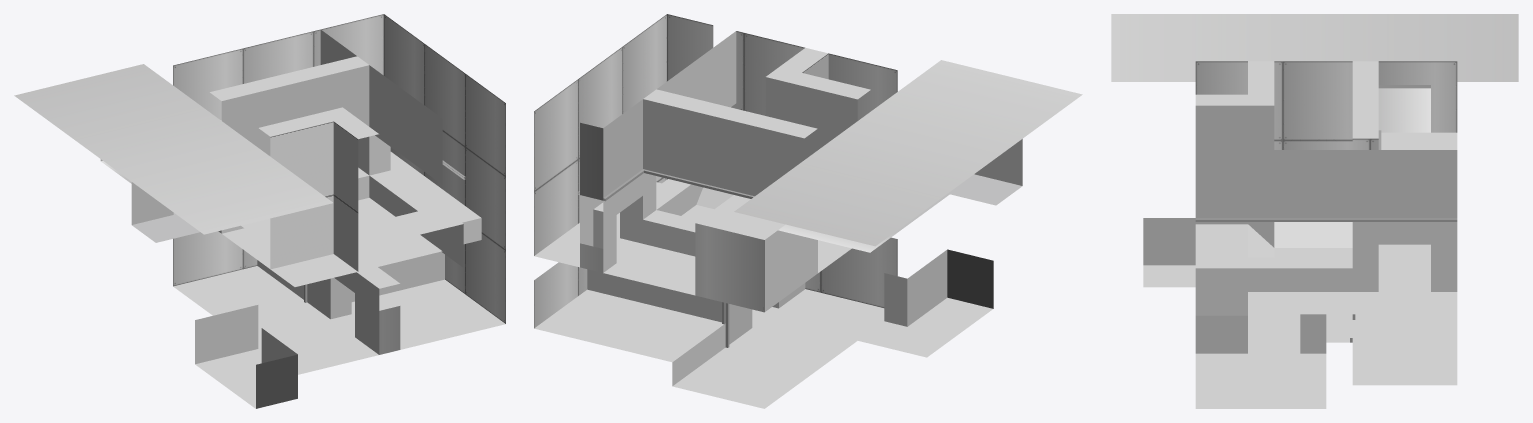
The model's file is Area5.gltf.
The picture shows the model from 3 angles, left to right: view 1: azimuth 30°, elevation 25°; view 2: azimuth 150°, elevation 25°; view 3: azimuth 270°, elevation 25°; orthographic projection. The views are drawn at different scales.
Visible parts, largest first — view 1: Grid.001; view 2: Grid.001; view 3: Grid.001.
Part boxes in pixels (bbox=[...]): Grid.001: bbox=[14, 14, 505, 408]; Grid.001: bbox=[534, 14, 1082, 408]; Grid.001: bbox=[1111, 14, 1518, 408].
Bounding box in the file's own units: 32.34 × 20 × 31.17.
Materials: 6 (1 with a texture image).
